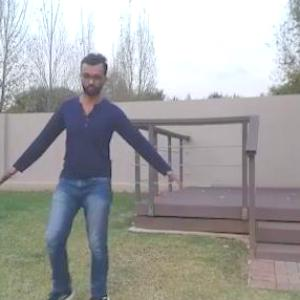land: (20, 69, 155, 299)
